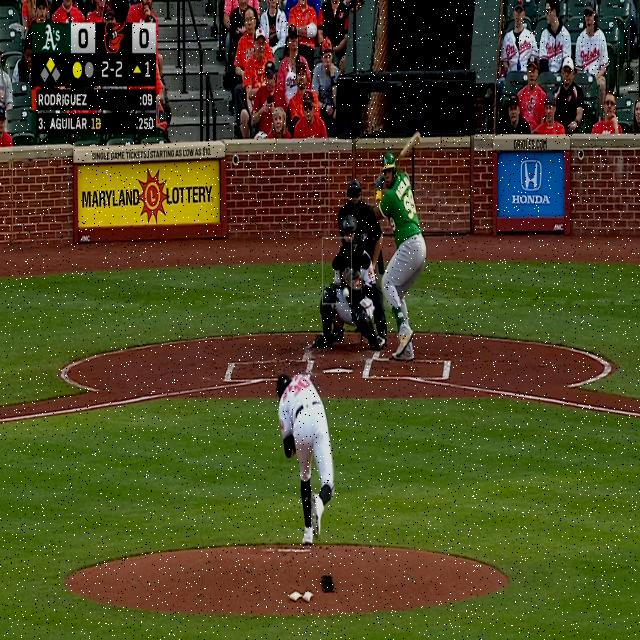baseball: (343, 287, 349, 297)
